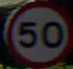Speed limit: (4, 1, 68, 61)
